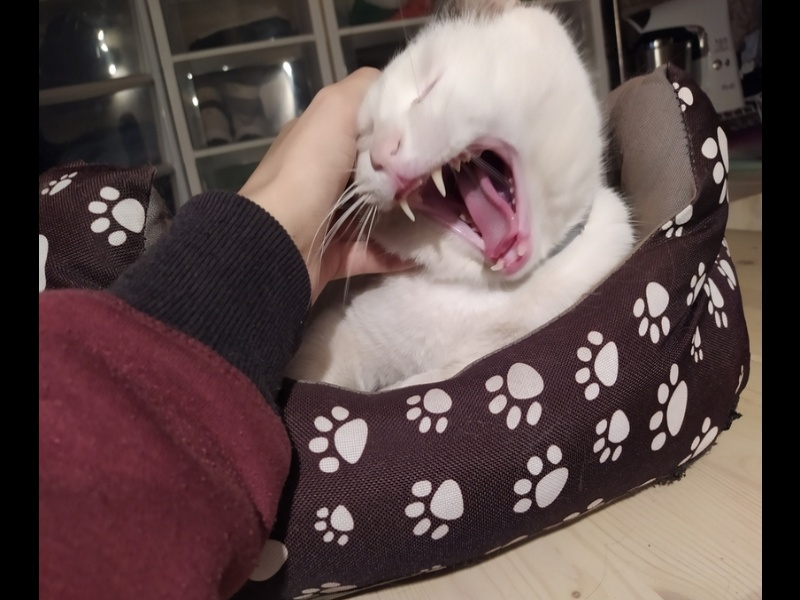cat: (218, 8, 630, 383)
